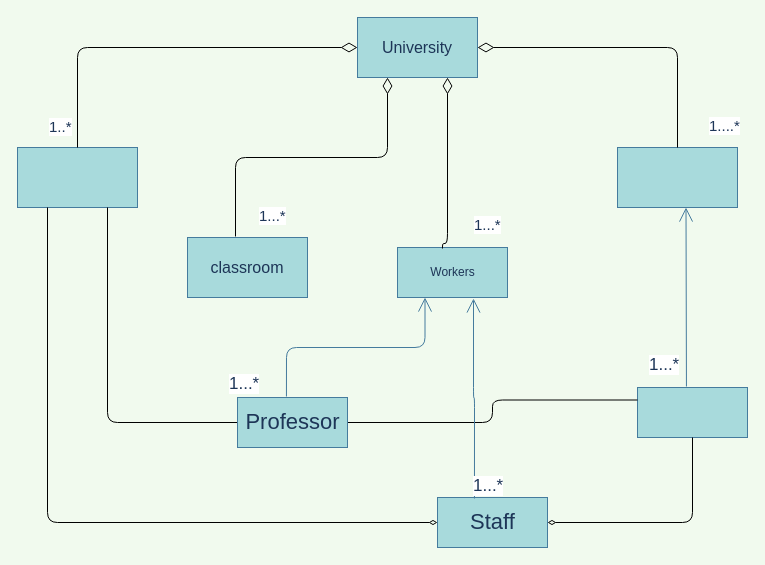
Image size: 765x565. Some labels were removed from this diagram. The shapes that lost their labels are listed below. From the top down, each one's centre as x and y in pixels, then its label:
At point (77, 177): "Work Office".
At point (677, 177): "Departments".
At point (692, 412): "Office".
